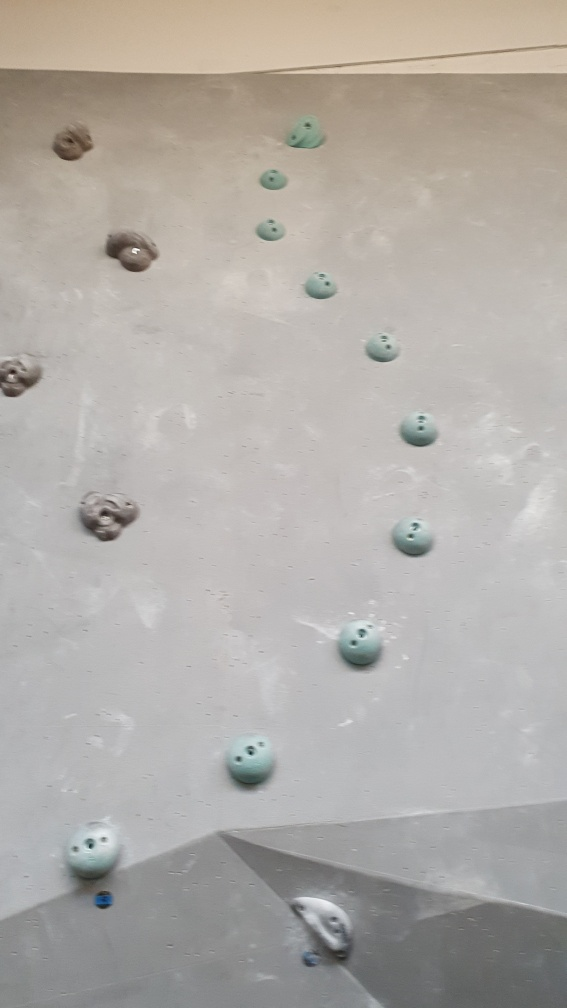Hand Start: (93, 889, 115, 912), (301, 949, 322, 970)
Jug: (74, 487, 143, 543), (103, 229, 164, 271), (1, 350, 46, 402), (279, 109, 330, 153), (50, 118, 99, 163)
Sloper: (64, 821, 124, 881), (225, 730, 279, 788), (337, 618, 386, 668), (391, 514, 436, 559), (399, 410, 440, 451), (365, 330, 402, 363), (304, 271, 340, 299), (257, 165, 286, 192), (257, 217, 287, 242)
